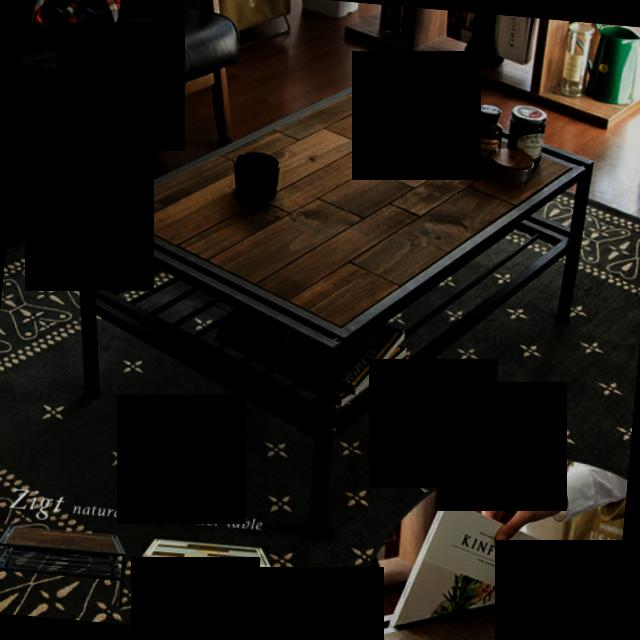vintage desk: (51, 50, 604, 551)
